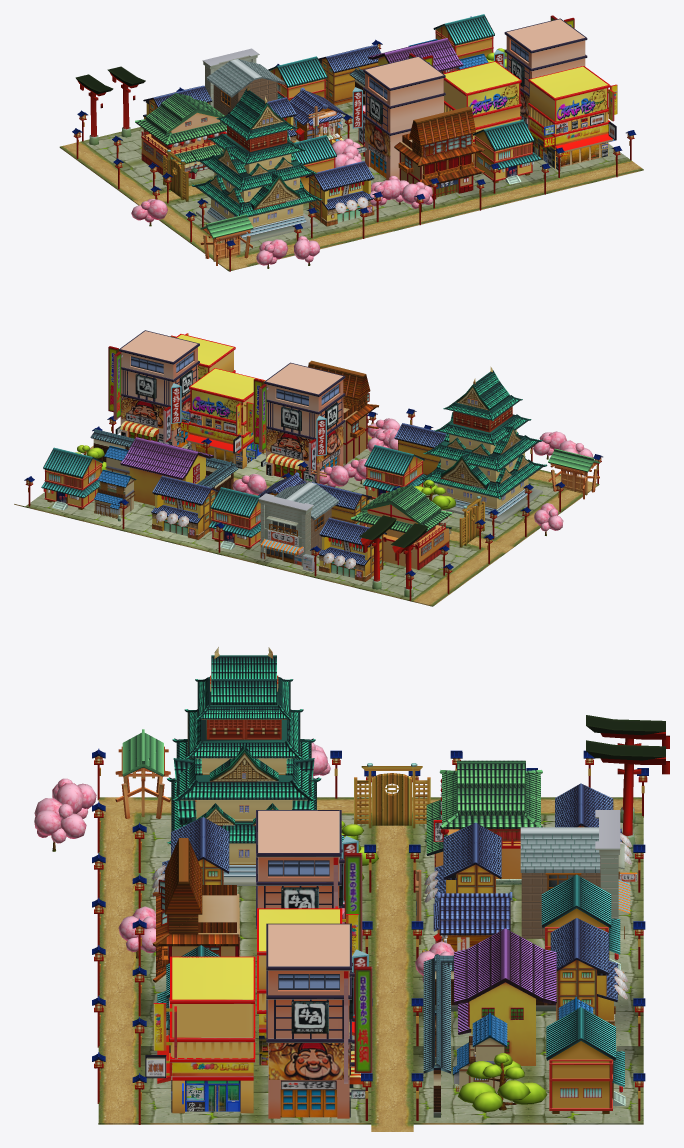
Rendered from KYOTO004.fbx.
3 renders of one model, top to bottom at view 1: azimuth 30°, elevation 25°; view 2: azimuth 150°, elevation 25°; view 3: azimuth 270°, elevation 25°, orthographic. The views are drawn at different scales.
Visible parts, largest first — view 1: polySurface15; view 2: polySurface15; view 3: polySurface15.
Boxes of the visible parts, x1,y1,x2,y2 form: polySurface15: [59, 14, 643, 271]; polySurface15: [14, 330, 602, 606]; polySurface15: [34, 647, 669, 1131].
Bounding box in the file's own units: 771020 × 205638 × 577110.
